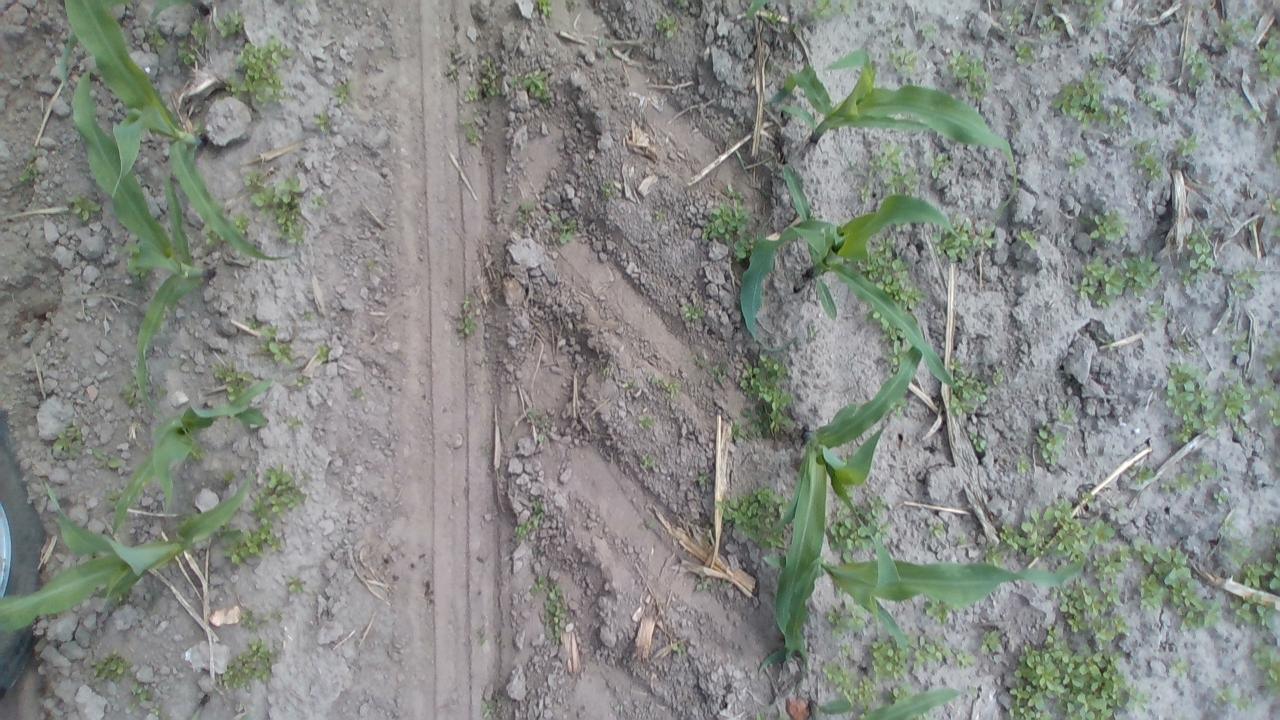Maize: (64, 1, 301, 267), (765, 322, 918, 674), (737, 164, 959, 396), (70, 67, 214, 407), (762, 522, 1092, 646), (771, 46, 1021, 205), (2, 472, 252, 628), (117, 382, 272, 536), (812, 682, 963, 718), (143, 0, 214, 31), (728, 0, 773, 29), (176, 689, 212, 720)
Weeds: (1004, 628, 1133, 720), (719, 484, 789, 555), (738, 354, 792, 434), (1166, 363, 1222, 440), (1044, 497, 1114, 557), (227, 38, 290, 103), (827, 497, 889, 559), (1159, 566, 1219, 630), (252, 178, 307, 244), (863, 246, 921, 302), (248, 465, 304, 521), (1060, 583, 1114, 634), (220, 639, 274, 688), (1123, 532, 1191, 568), (1078, 258, 1128, 306), (1054, 74, 1106, 119), (950, 366, 994, 414), (511, 490, 549, 544), (1215, 516, 1253, 568), (1182, 225, 1214, 283), (870, 638, 910, 684), (220, 525, 268, 563), (689, 349, 730, 393), (950, 50, 989, 96), (842, 159, 878, 208), (936, 220, 979, 260), (1249, 378, 1280, 432), (1164, 458, 1216, 490), (1232, 594, 1276, 629), (1222, 374, 1248, 430), (1210, 682, 1254, 715), (1124, 252, 1160, 292), (235, 603, 284, 632), (1182, 46, 1214, 90), (648, 371, 686, 408), (1090, 208, 1129, 243), (706, 204, 746, 238), (522, 405, 554, 446), (524, 70, 553, 114), (1036, 424, 1066, 465), (1022, 507, 1048, 554), (1096, 548, 1128, 586), (441, 38, 466, 86), (1252, 642, 1276, 692), (1241, 560, 1278, 592), (1034, 10, 1070, 42), (212, 8, 248, 40), (1124, 675, 1152, 716), (808, 0, 852, 25), (544, 598, 566, 648), (1134, 146, 1164, 182), (92, 653, 131, 680), (1213, 18, 1248, 48), (826, 605, 862, 634), (452, 114, 483, 147), (910, 637, 947, 664), (53, 426, 83, 458), (822, 660, 854, 690), (1231, 265, 1262, 295), (1258, 36, 1278, 82), (70, 194, 104, 221), (213, 368, 254, 390), (263, 334, 293, 364), (1012, 38, 1038, 72), (1136, 572, 1160, 608), (887, 166, 916, 195), (680, 298, 709, 326), (550, 216, 579, 244), (530, 573, 560, 599), (888, 48, 918, 74), (872, 144, 901, 170), (1080, 0, 1110, 25), (185, 14, 210, 44), (1124, 462, 1158, 484), (480, 62, 500, 99), (1166, 654, 1192, 682), (1174, 412, 1198, 442), (845, 680, 877, 702), (691, 568, 716, 596), (279, 574, 308, 598), (1166, 332, 1196, 355), (1142, 91, 1172, 114), (1000, 524, 1025, 551), (1066, 149, 1090, 177), (94, 448, 126, 469), (1220, 89, 1246, 114), (634, 409, 660, 434), (1228, 326, 1251, 354), (1138, 60, 1166, 83), (1006, 4, 1025, 37), (460, 297, 476, 336), (312, 341, 334, 369), (1264, 550, 1280, 588), (924, 600, 949, 624), (721, 180, 750, 200), (636, 447, 658, 473), (228, 208, 250, 234), (586, 359, 614, 379), (1012, 454, 1034, 479), (730, 238, 751, 264), (1260, 344, 1280, 371), (1176, 132, 1198, 156), (1240, 104, 1264, 126), (285, 412, 309, 434), (177, 42, 198, 66), (930, 152, 950, 177), (332, 81, 353, 104), (658, 16, 678, 40), (460, 82, 480, 106), (1263, 521, 1280, 549), (695, 466, 712, 494), (731, 417, 752, 439), (532, 0, 554, 21), (146, 27, 167, 49), (984, 546, 1007, 566), (1108, 105, 1128, 128), (650, 205, 669, 229), (131, 684, 153, 704), (636, 514, 658, 534), (976, 228, 998, 248), (598, 177, 616, 201), (980, 630, 1000, 651), (1017, 228, 1039, 247), (1269, 136, 1280, 173), (290, 371, 310, 391), (314, 110, 332, 132), (1056, 405, 1078, 423), (954, 648, 976, 666), (921, 22, 938, 45), (242, 170, 262, 189), (474, 623, 488, 650), (1076, 486, 1098, 503), (203, 227, 220, 249), (888, 686, 911, 702), (1147, 302, 1167, 320), (622, 373, 640, 393), (482, 695, 498, 717), (146, 701, 164, 720), (308, 191, 327, 209), (344, 382, 364, 399), (20, 163, 37, 183), (504, 75, 520, 96), (701, 519, 713, 546), (925, 520, 942, 539), (1264, 194, 1280, 214), (1264, 222, 1280, 242), (156, 385, 172, 405), (106, 488, 121, 509), (671, 640, 688, 658), (1212, 488, 1230, 505), (124, 386, 140, 405), (363, 253, 378, 273), (971, 433, 987, 451), (518, 202, 534, 220), (954, 529, 967, 550), (1112, 499, 1128, 516), (1092, 51, 1109, 67), (299, 308, 315, 324), (221, 469, 237, 484), (246, 316, 260, 331), (1248, 218, 1258, 238), (1041, 0, 1067, 7), (716, 575, 728, 590), (670, 0, 686, 11)
